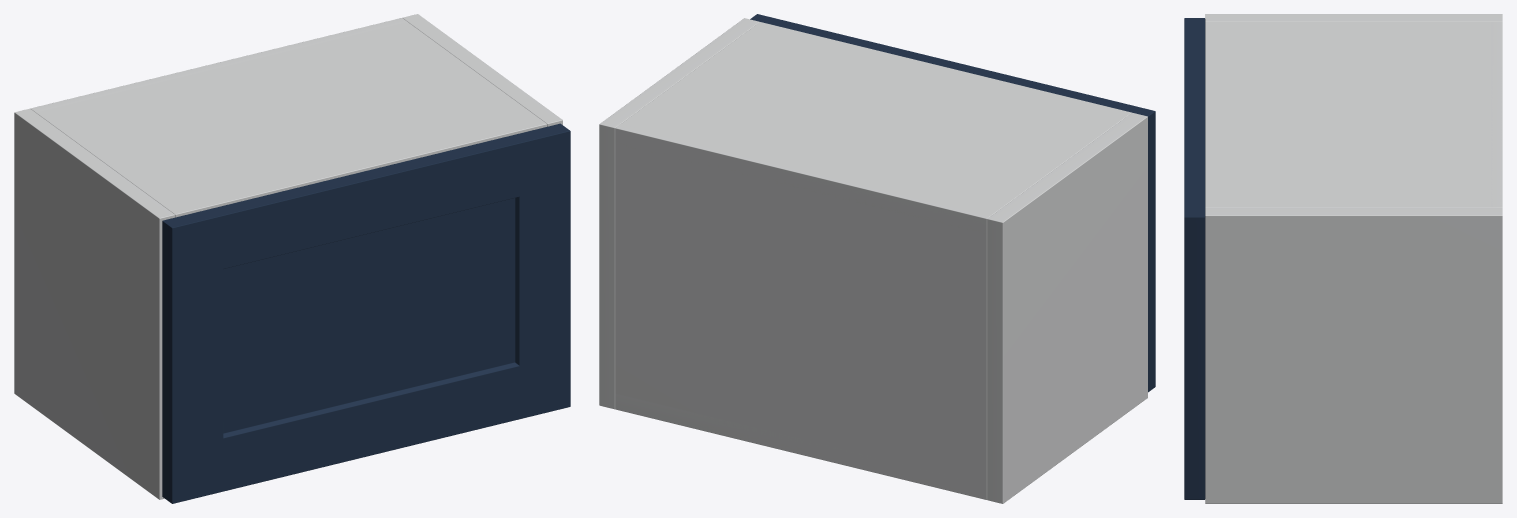
Rendered from oppein-ply-bss-w1812.glb.
3 renders of one model, left to right at view 1: azimuth 30°, elevation 25°; view 2: azimuth 150°, elevation 25°; view 3: azimuth 270°, elevation 25°, orthographic. The views are drawn at different scales.
Visible parts, largest first — view 1: Door, Cabinet top, Cabinet side, Cabinet side.001, Cabinet back; view 2: Cabinet back, Cabinet top, Cabinet side, Cabinet side.001, Door, Cabinet bottom; view 3: Cabinet side.001, Cabinet top, Door, Cabinet back, Cabinet side.
Part boxes in pixels (x1=…): Door: x1=162, y1=123, x2=570, y2=503; Cabinet top: x1=36, y1=22, x2=546, y2=217; Cabinet side: x1=14, y1=108, x2=174, y2=499; Cabinet side.001: x1=402, y1=14, x2=562, y2=126; Cabinet back: x1=30, y1=18, x2=407, y2=112; Cabinet back: x1=615, y1=124, x2=992, y2=499; Cabinet top: x1=615, y1=22, x2=1131, y2=234; Cabinet side: x1=987, y1=112, x2=1147, y2=503; Cabinet side.001: x1=599, y1=18, x2=759, y2=409; Door: x1=750, y1=14, x2=1155, y2=392; Cabinet bottom: x1=615, y1=394, x2=987, y2=495; Cabinet side.001: x1=1205, y1=208, x2=1502, y2=503; Cabinet top: x1=1205, y1=22, x2=1502, y2=207; Door: x1=1184, y1=18, x2=1205, y2=499; Cabinet back: x1=1490, y1=22, x2=1502, y2=207; Cabinet side: x1=1205, y1=14, x2=1502, y2=21.
Size of the model in its own units: 0.4572 by 0.3048 by 0.3048.
